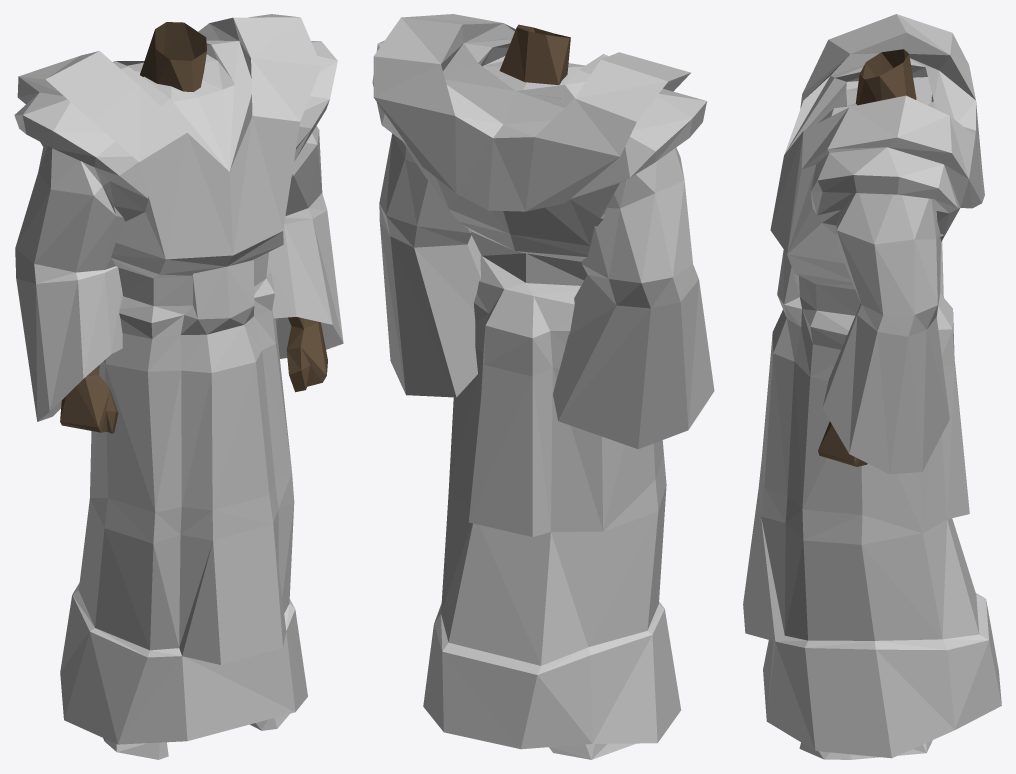
The model's file is ARMOR_KDF_H.OBJ.
3 views of the same model, side by side, from view 1: azimuth 30°, elevation 25°; view 2: azimuth 150°, elevation 25°; view 3: azimuth 270°, elevation 25° (orthographic). The views are drawn at different scales.
Visible parts, largest first — view 1: ARMOR_KDF_H; view 2: ARMOR_KDF_H; view 3: ARMOR_KDF_H.
Boxes of the visible parts, x1=… form: ARMOR_KDF_H: x1=14, y1=14, x2=343, y2=759; ARMOR_KDF_H: x1=372, y1=14, x2=714, y2=759; ARMOR_KDF_H: x1=743, y1=14, x2=1001, y2=759.
Bounding box in the file's own units: 0.7712 × 1.67 × 0.5854.
